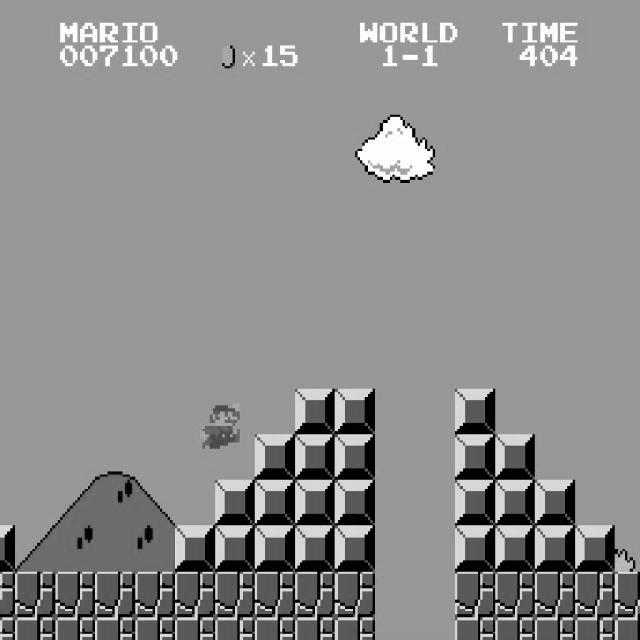11- little_mario: (197, 401, 240, 448)
17- undestructible_block: (54, 572, 96, 618), (94, 572, 136, 618), (134, 572, 176, 618), (174, 572, 216, 618), (214, 572, 256, 618), (254, 572, 296, 618), (294, 572, 336, 618), (334, 572, 376, 618), (454, 572, 496, 618), (494, 572, 536, 618), (534, 572, 576, 618), (574, 572, 616, 618), (15, 572, 56, 618), (614, 571, 640, 617), (54, 617, 96, 640), (94, 617, 136, 640), (134, 617, 176, 640), (174, 617, 216, 640), (214, 617, 256, 640), (254, 617, 296, 640), (294, 617, 336, 640), (334, 617, 376, 640), (454, 617, 496, 640), (494, 617, 536, 640), (534, 617, 576, 640), (574, 617, 616, 640), (15, 617, 56, 640), (0, 572, 15, 618), (614, 617, 640, 639), (0, 617, 15, 640)
9- hard_block: (174, 526, 216, 572), (214, 480, 256, 526), (214, 526, 256, 572), (254, 434, 296, 480), (254, 480, 296, 526), (254, 526, 296, 572), (294, 388, 336, 434), (294, 434, 336, 480), (294, 480, 336, 526), (294, 526, 336, 572), (334, 388, 376, 434), (334, 434, 376, 480), (334, 480, 376, 526), (334, 526, 376, 572), (454, 388, 496, 434), (454, 434, 496, 480), (454, 480, 496, 526), (454, 526, 496, 572), (494, 434, 536, 480), (494, 480, 536, 526), (494, 526, 536, 572), (534, 480, 576, 526), (534, 526, 576, 572), (574, 526, 616, 572), (0, 526, 15, 572)
